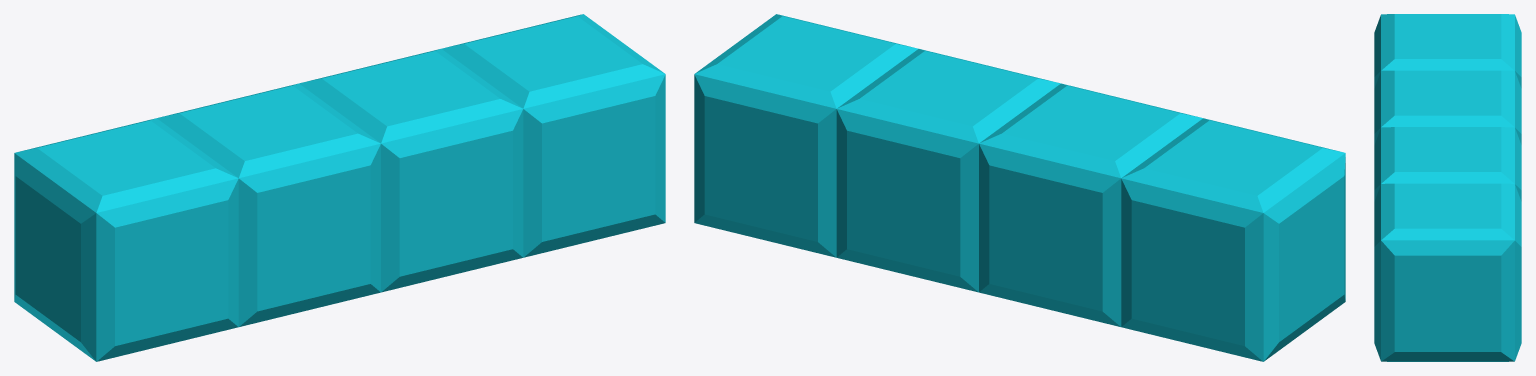
Rendered from straight_tetro.gltf.
3 views of the same model, side by side, from view 1: azimuth 30°, elevation 25°; view 2: azimuth 150°, elevation 25°; view 3: azimuth 270°, elevation 25° (orthographic). The views are drawn at different scales.
Visible parts, largest first — view 1: straight_tetro; view 2: straight_tetro; view 3: straight_tetro.
Part boxes in pixels (x1=…): straight_tetro: x1=14, y1=14, x2=665, y2=361; straight_tetro: x1=694, y1=14, x2=1345, y2=361; straight_tetro: x1=1374, y1=14, x2=1521, y2=361.
Bounding box in the file's own units: 4.1 × 1.1 × 1.1.
1 material, 1 textured.
